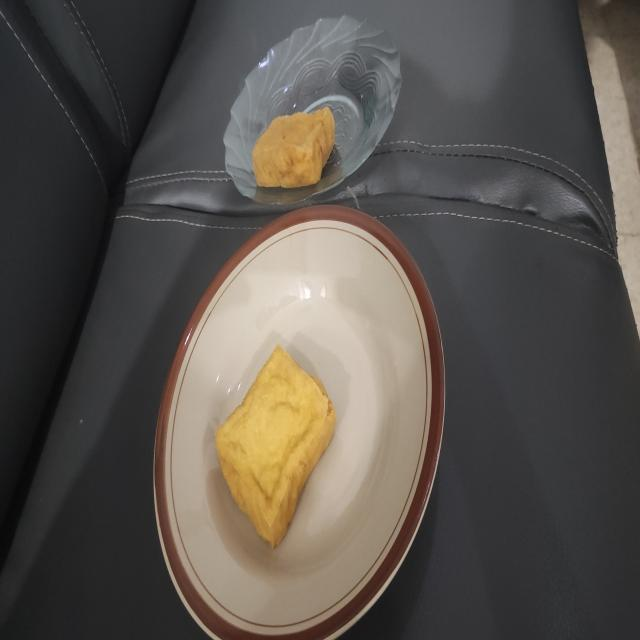tahu_goreng: (216, 345, 336, 548), (252, 107, 334, 188)
